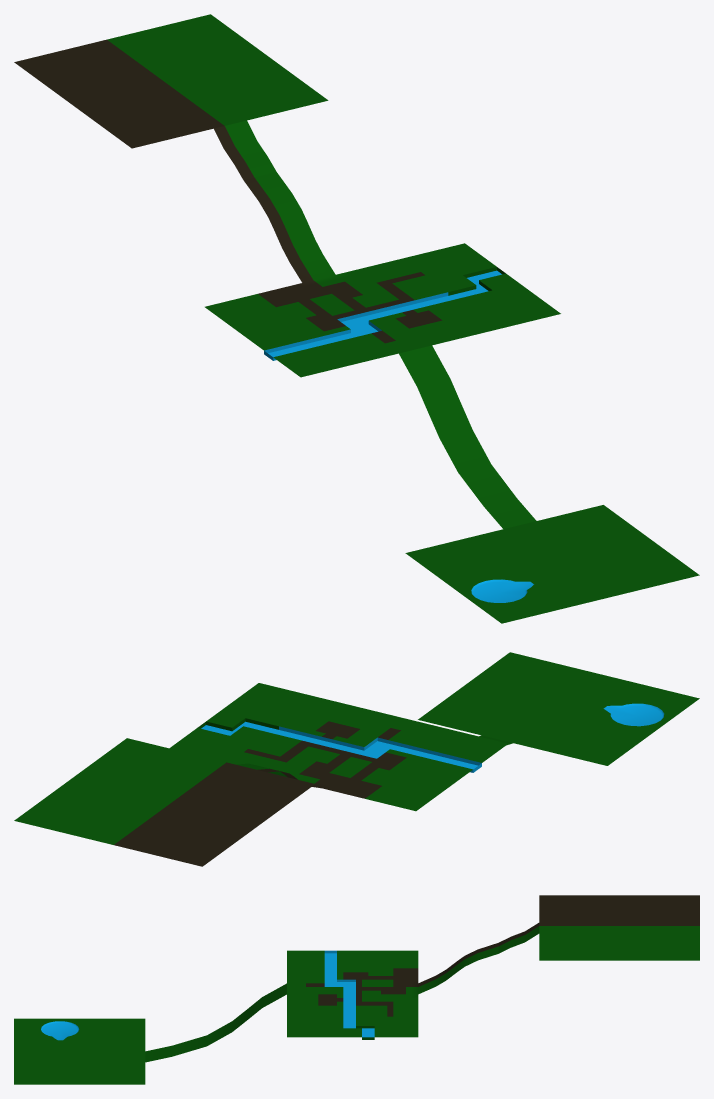
File: plain_hill_terrain_AK 1.fbx
3 renders of one model, top to bottom at view 1: azimuth 30°, elevation 25°; view 2: azimuth 150°, elevation 25°; view 3: azimuth 270°, elevation 25°, orthographic. The views are drawn at different scales.
Visible parts, largest first — view 1: pPlane12; view 2: pPlane12; view 3: pPlane12.
Part boxes in pixels (x1=…): pPlane12: x1=14, y1=14, x2=699, y2=623; pPlane12: x1=14, y1=652, x2=699, y2=866; pPlane12: x1=14, y1=895, x2=699, y2=1084.
Bounding box in the file's own units: 7020 × 4912 × 23496.
